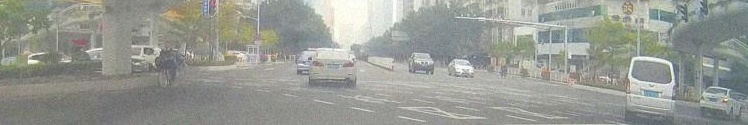L_light: (626, 78, 630, 94), (312, 61, 324, 66), (701, 95, 705, 100)
R_light: (671, 85, 676, 100), (342, 62, 354, 67), (721, 98, 728, 103)
T_light: (647, 61, 656, 63), (328, 51, 334, 53), (715, 88, 720, 90)
day-no: (626, 56, 676, 125), (309, 50, 355, 87)
day-right: (700, 87, 729, 120)
